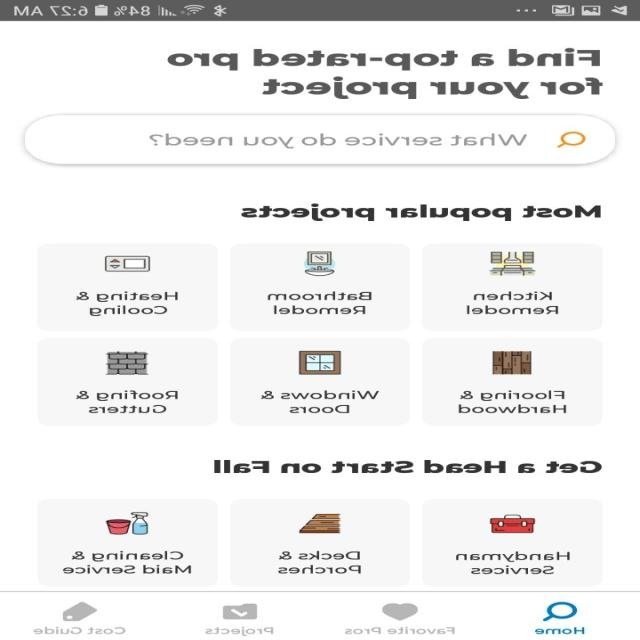EditText: (25, 114, 616, 164)
Icon: (542, 601, 578, 621), (63, 601, 99, 621), (382, 602, 419, 621), (223, 602, 258, 620), (556, 130, 586, 148)
Image: (489, 251, 537, 276), (298, 350, 342, 374), (106, 350, 150, 374), (106, 512, 150, 534), (492, 350, 532, 374), (490, 514, 536, 533), (300, 513, 342, 533), (105, 254, 151, 272), (303, 251, 336, 276)
Text: (167, 48, 604, 98), (241, 203, 602, 221), (149, 133, 527, 149), (214, 459, 603, 473), (63, 550, 193, 574), (262, 390, 381, 413), (456, 551, 571, 574), (76, 291, 178, 316), (458, 390, 568, 413), (268, 291, 372, 314), (75, 390, 178, 413), (466, 291, 560, 314), (278, 550, 362, 574), (345, 626, 455, 634), (205, 625, 275, 636), (34, 626, 128, 634), (534, 626, 585, 634)
